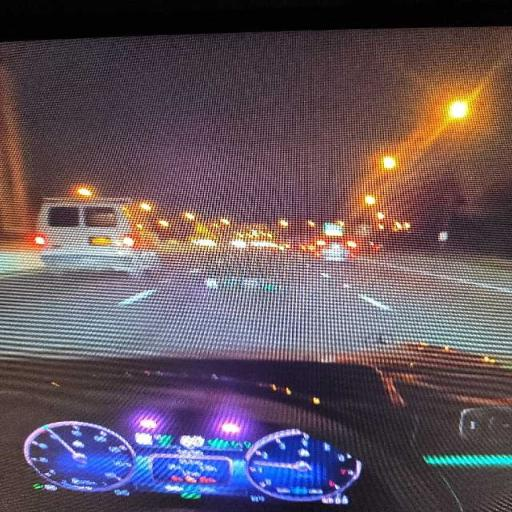car: (34, 199, 159, 274)
lane: (0, 254, 511, 360), (350, 260, 511, 360)
